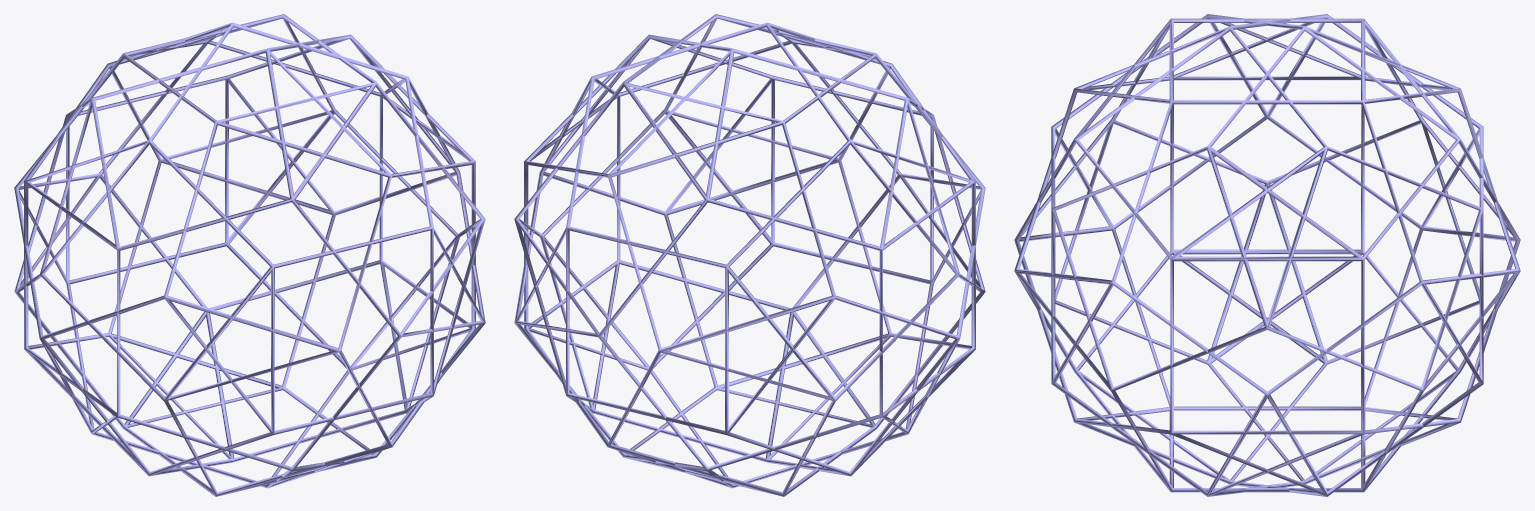
File: Rhombidodecadodecahedron1.glb
The picture shows the model from 3 angles, left to right: view 1: azimuth 30°, elevation 25°; view 2: azimuth 150°, elevation 25°; view 3: azimuth 270°, elevation 25°; orthographic projection. The views are drawn at different scales.
Parts seen in each view (by area): view 1: Rhombidodecadodecahedron; view 2: Rhombidodecadodecahedron; view 3: Rhombidodecadodecahedron.
Boxes of the visible parts, left/top/right/bottom form: Rhombidodecadodecahedron: left=14, top=14, right=485, bottom=496; Rhombidodecadodecahedron: left=514, top=14, right=985, bottom=496; Rhombidodecadodecahedron: left=1014, top=14, right=1520, bottom=496.
Bounding box in the file's own units: 2.64 × 2.64 × 2.64.
